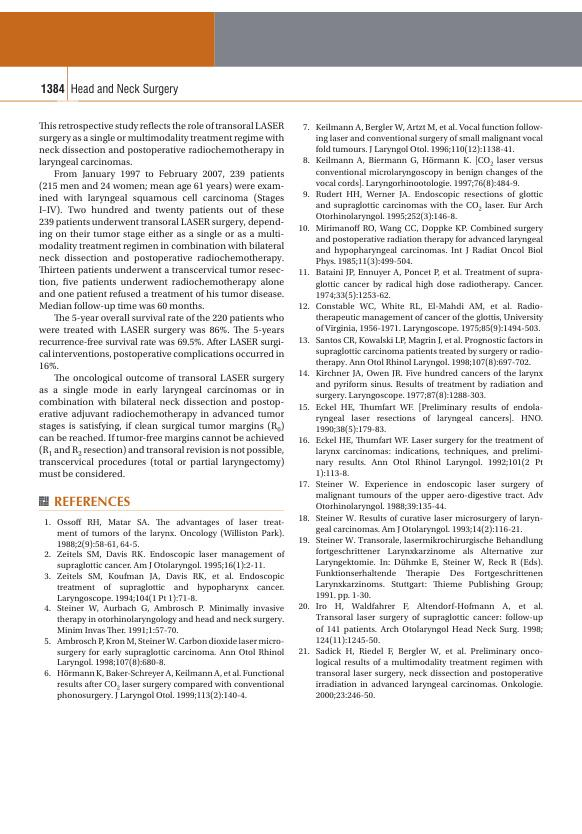header: (70, 82, 179, 97)
list: (297, 121, 544, 700), (42, 517, 286, 701)
section-heading: (53, 495, 132, 507)
text: (37, 121, 286, 478)
